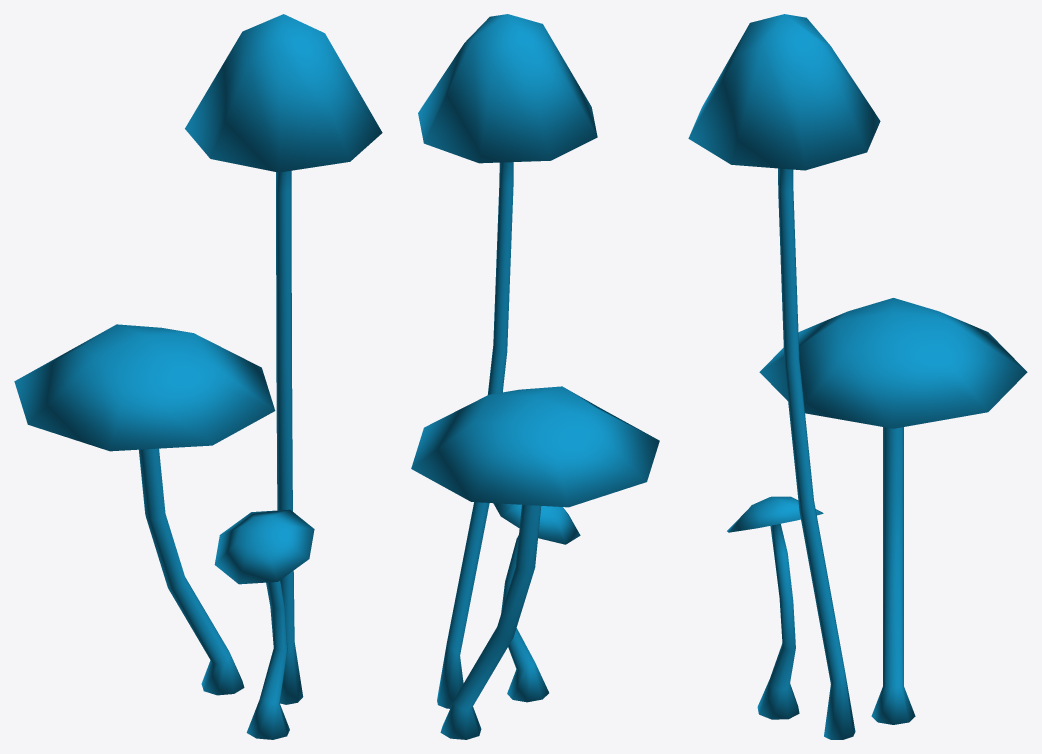
Rendered from fungus blue 3.obj.
3 renders of one model, left to right at view 1: azimuth 30°, elevation 25°; view 2: azimuth 150°, elevation 25°; view 3: azimuth 270°, elevation 25°, orthographic. The views are drawn at different scales.
Visible parts, largest first — view 1: fungo.018, fungo.019, fungo.020; view 2: fungo.018, fungo.019, fungo.020; view 3: fungo.019, fungo.018, fungo.020.
Boxes of the visible parts, x1,y1,x2,y2 form: fungo.018: (14, 324, 275, 695); fungo.019: (185, 14, 382, 704); fungo.020: (214, 509, 314, 739); fungo.018: (411, 386, 659, 739); fungo.019: (418, 14, 597, 708); fungo.020: (493, 503, 580, 702); fungo.019: (688, 14, 880, 739); fungo.018: (759, 298, 1027, 724); fungo.020: (727, 496, 823, 719).
Size of the model in its own units: 1.08 by 2.57 by 1.12.
